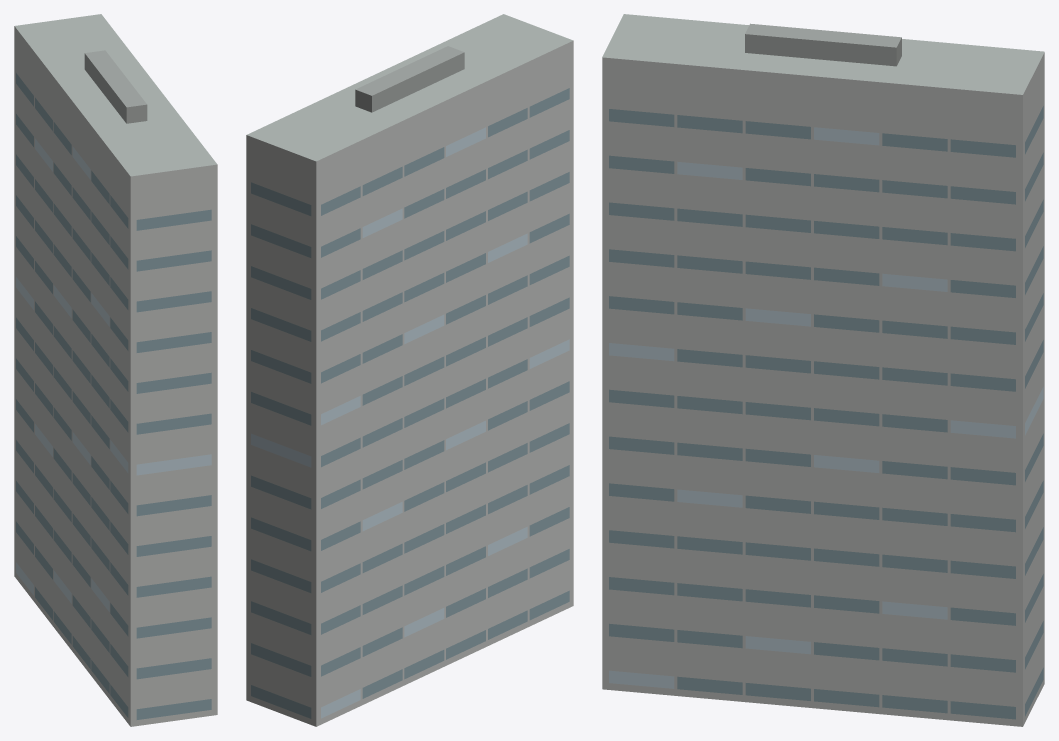
Rendered from fallback-jamsil-ricenz-252.glb.
3 renders of one model, left to right at view 1: azimuth 30°, elevation 25°; view 2: azimuth 150°, elevation 25°; view 3: azimuth 270°, elevation 25°, orthographic. The views are drawn at different scales.
Parts seen in each view (by area): view 1: fallback-jamsil-ricenz-252; view 2: fallback-jamsil-ricenz-252; view 3: fallback-jamsil-ricenz-252.
Boxes of the visible parts, x1=… form: fallback-jamsil-ricenz-252: x1=14, y1=14, x2=217, y2=726; fallback-jamsil-ricenz-252: x1=246, y1=14, x2=573, y2=726; fallback-jamsil-ricenz-252: x1=602, y1=14, x2=1044, y2=726.
Size of the model in its own units: 22.16 by 83 by 51.16.
